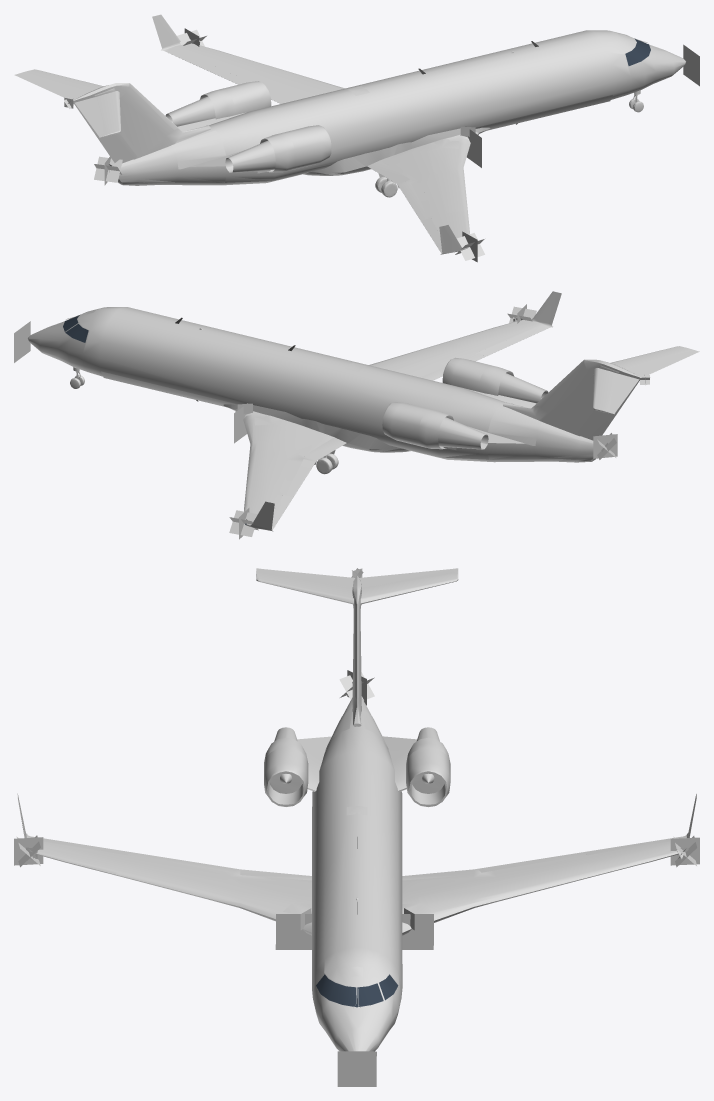
Rendered from crj2.glb.
The picture shows the model from 3 angles, top to bottom: view 1: azimuth 30°, elevation 25°; view 2: azimuth 150°, elevation 25°; view 3: azimuth 270°, elevation 25°; orthographic projection. The views are drawn at different scales.
Visible parts, largest first — view 1: body, glass; view 2: body, glass; view 3: body, glass.
Boxes of the visible parts, left/top/right/bottom form: body: left=14, top=14, right=699, bottom=262; glass: left=625, top=38, right=650, bottom=65; body: left=14, top=291, right=699, bottom=539; glass: left=63, top=315, right=246, bottom=524; body: left=14, top=568, right=699, bottom=1086; glass: left=316, top=974, right=398, bottom=1007.
Size of the model in its own units: 2.2 by 0.5201 by 1.74.
